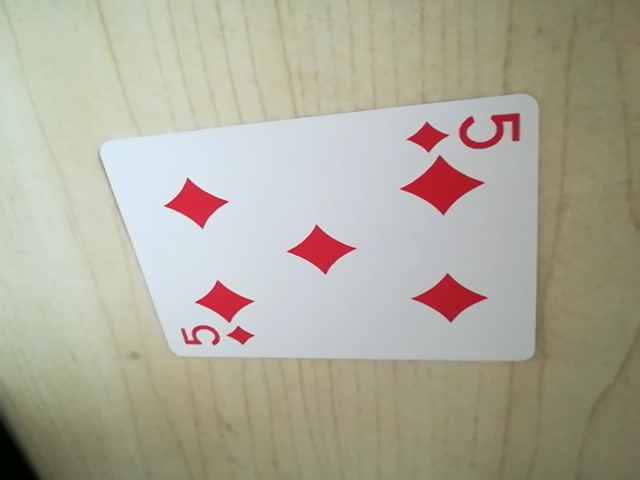fk 5: (405, 106, 523, 159), (175, 319, 258, 356)
